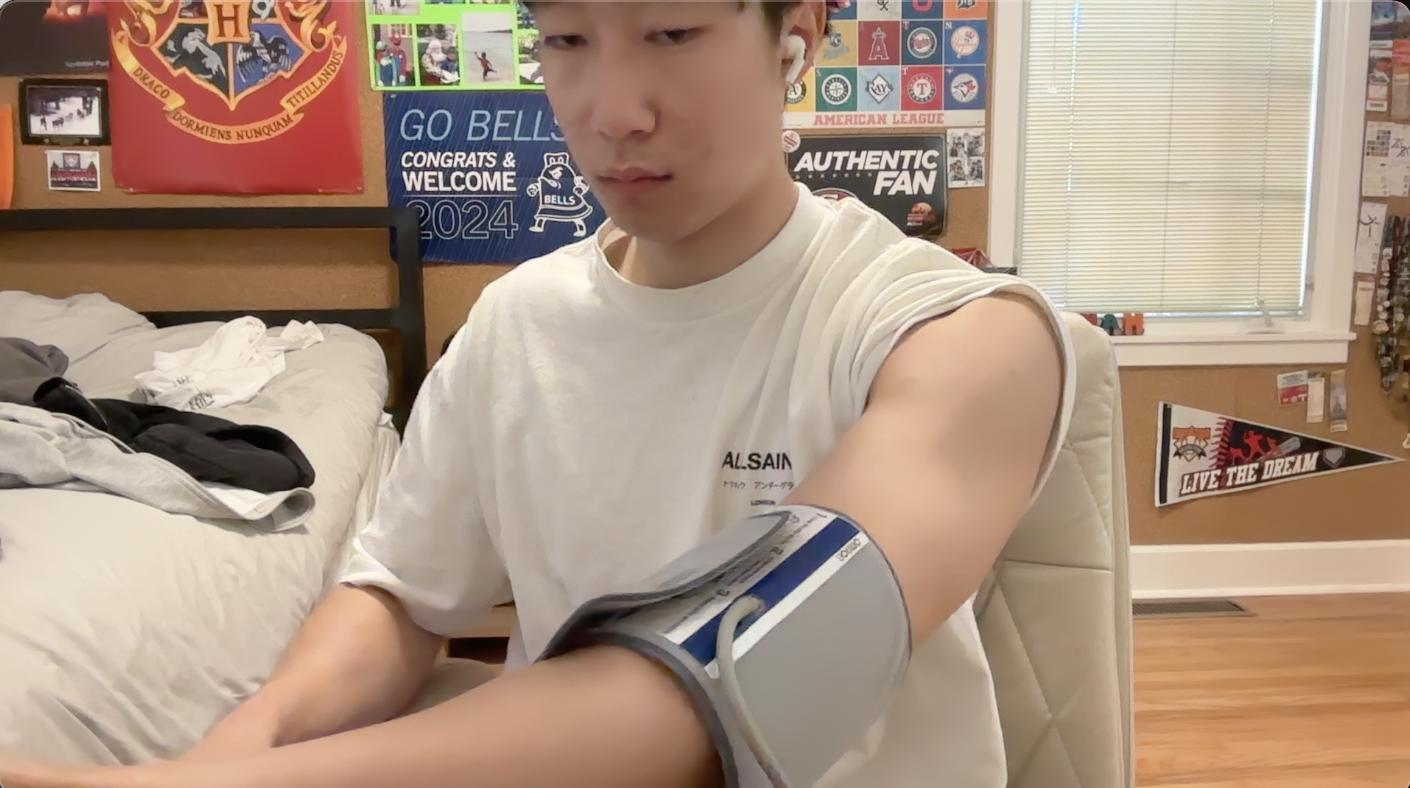cuff: (538, 503, 882, 787)
